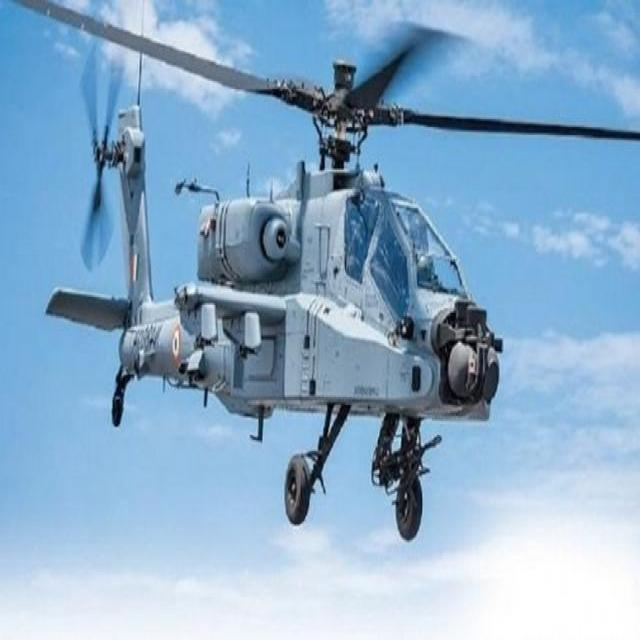MIL_HELO: (12, 0, 640, 553)
